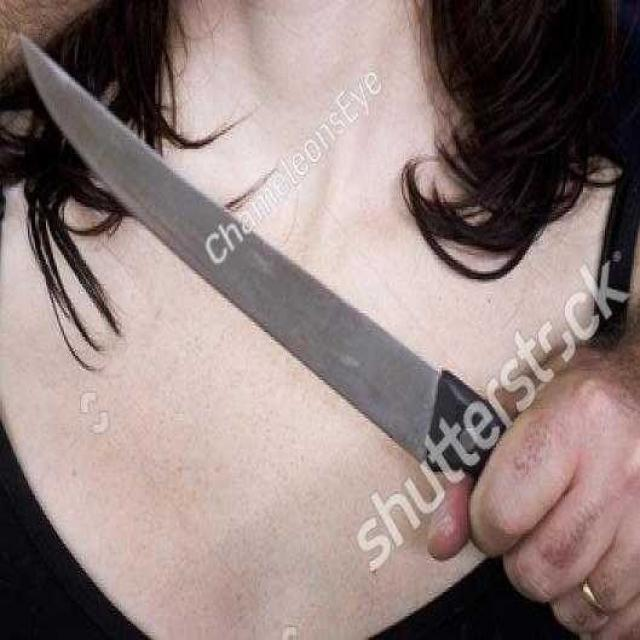weapon: (15, 28, 640, 622)
